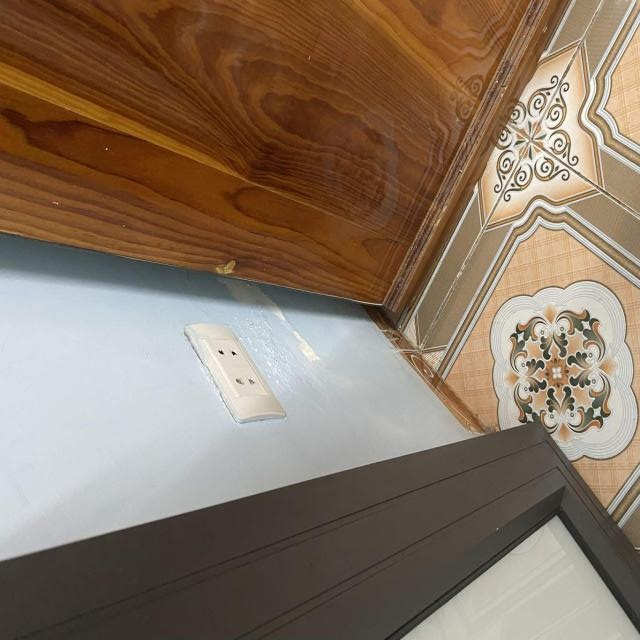outlet: (183, 324, 286, 424)
